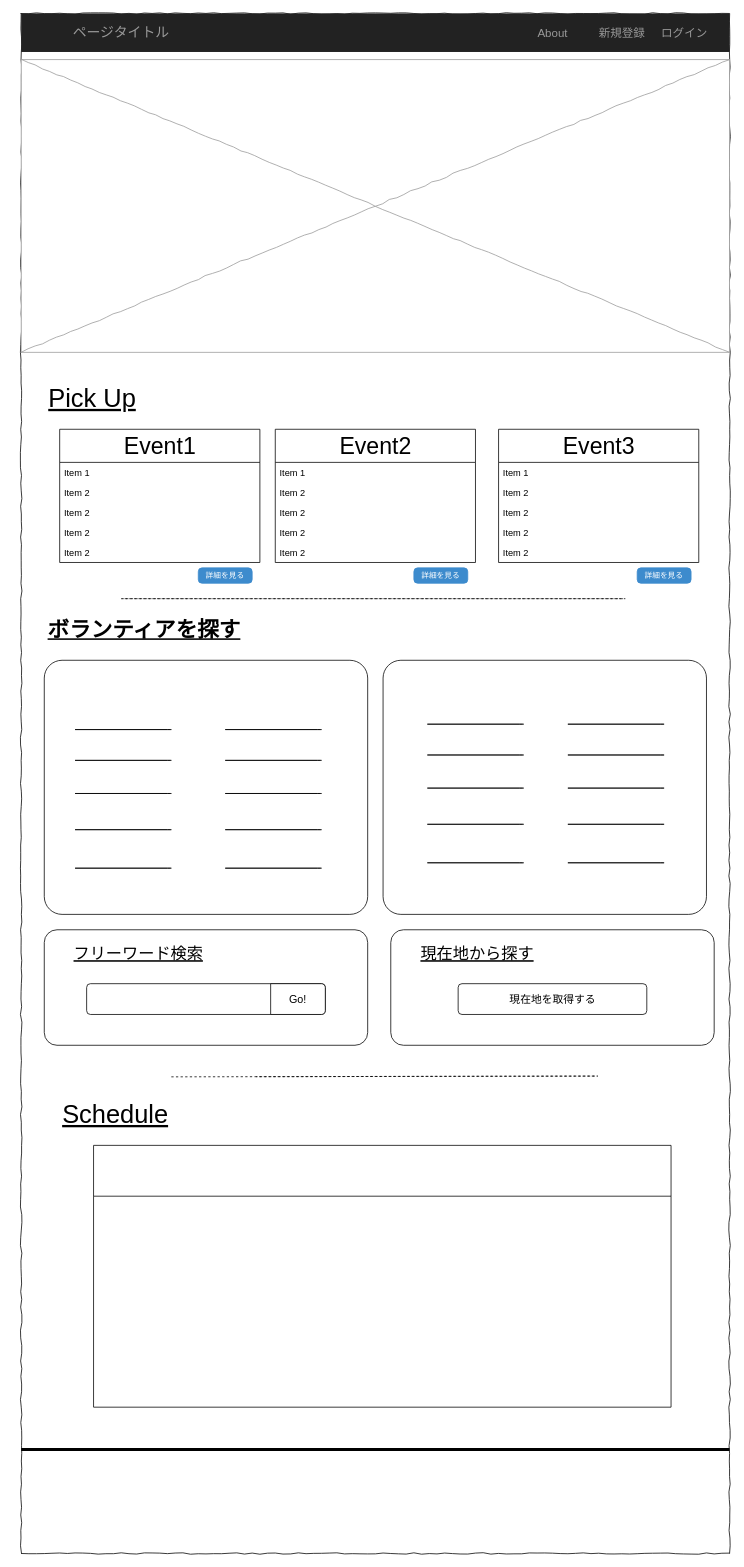
Some shapes in this 744 by 1567 pixel diagram are drawn without their labels. Here are the shapes that lost their labels. From the top down, the box of each, then its label:
(44, 660, 368, 914): カテゴリー検索
(382, 660, 706, 914): エリア検索
(86, 983, 325, 1014): Search...
(93, 1145, 671, 1407): カレンダー
